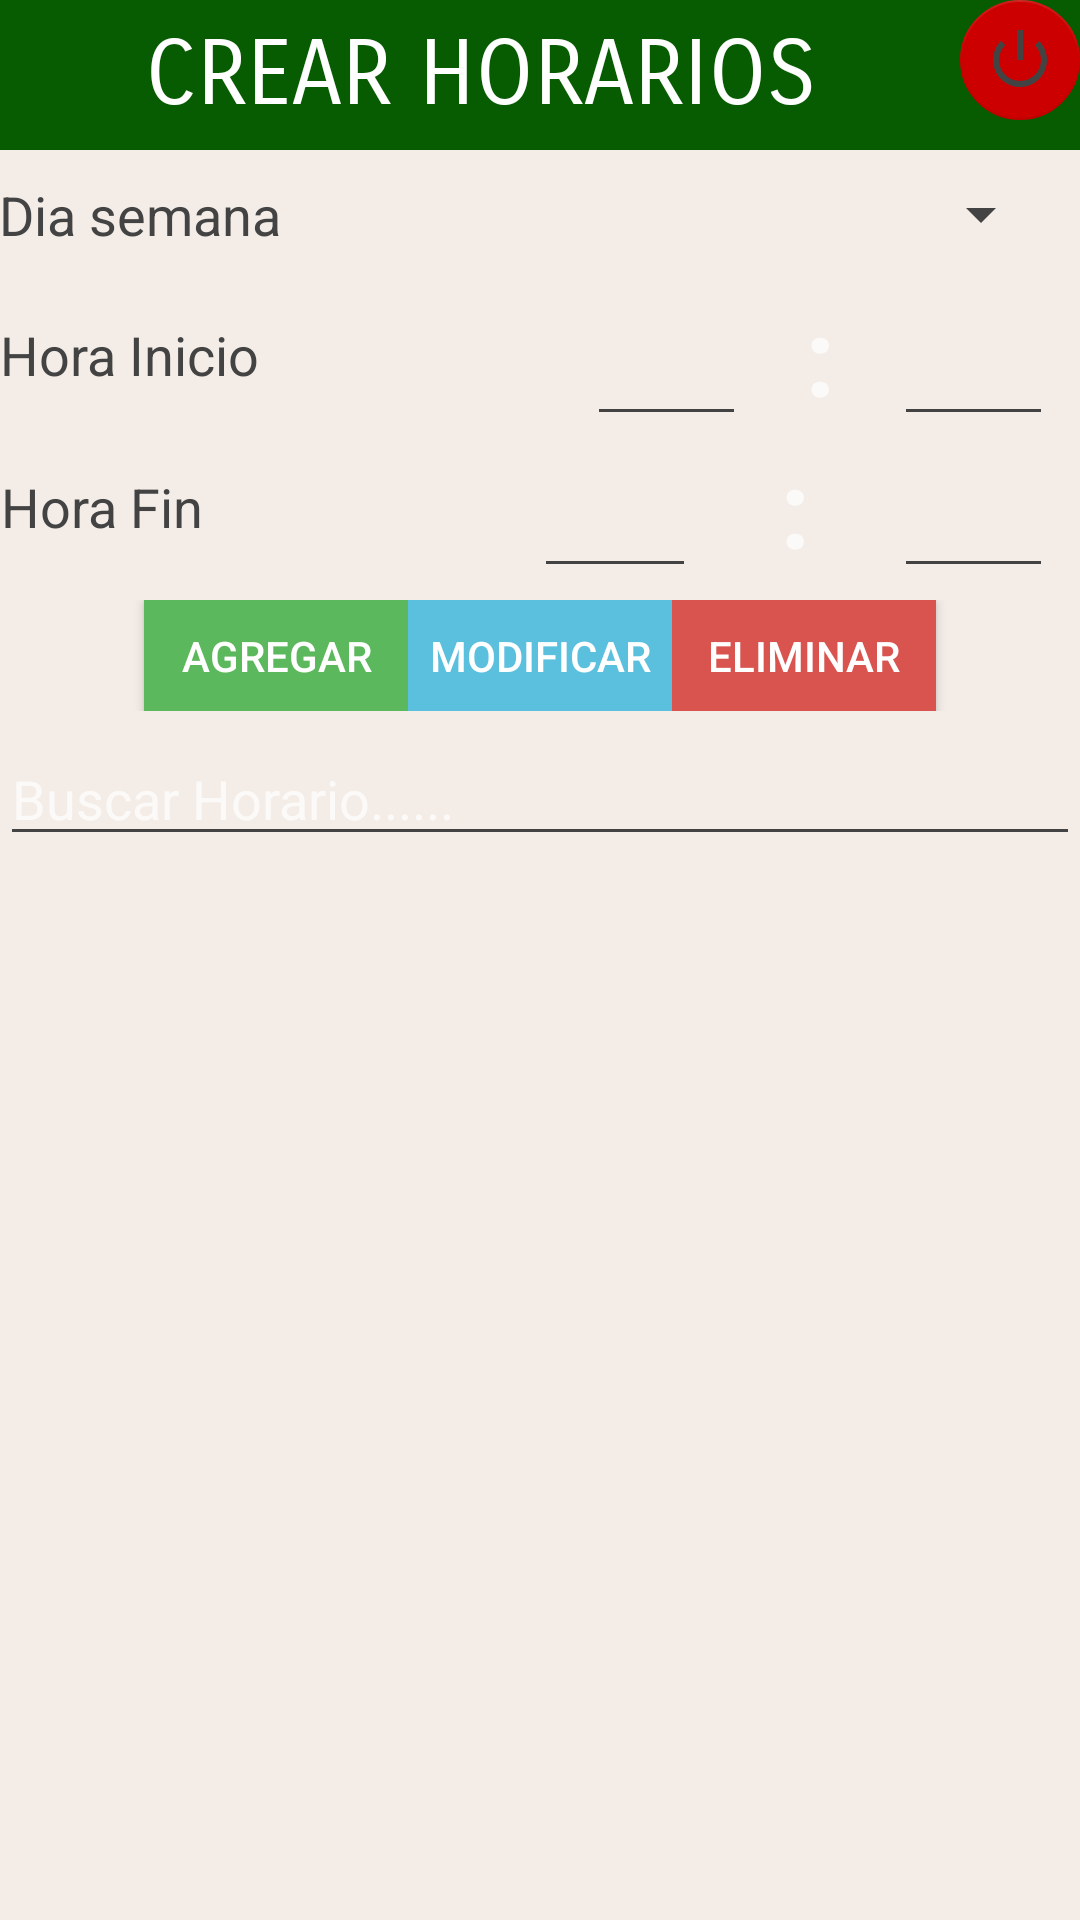

Icons on this 1080×1920 Android screen, each with its box as bbox=(x1, y1, x2, y2):
lock power off: bbox=(960, 0, 1080, 120)
